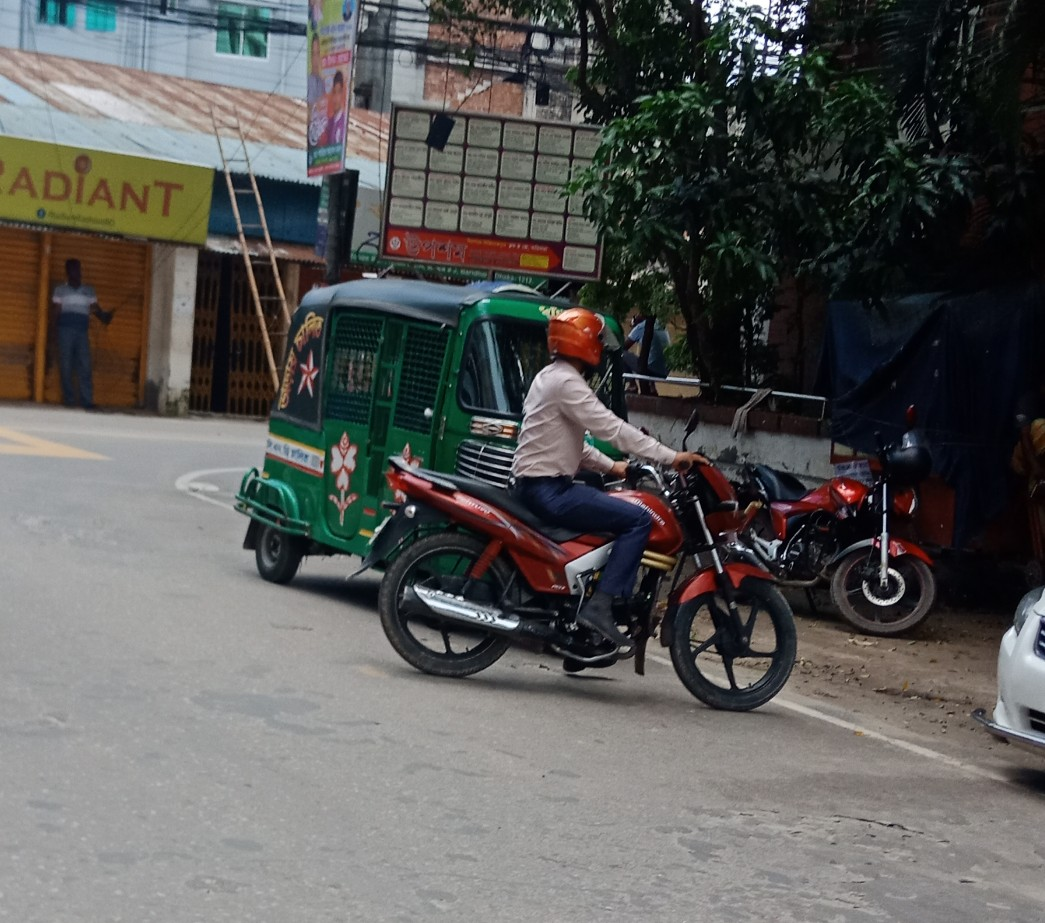bike: (365, 428, 821, 714), (690, 431, 947, 641)
car: (978, 573, 1045, 772)
cng: (232, 262, 639, 619)
